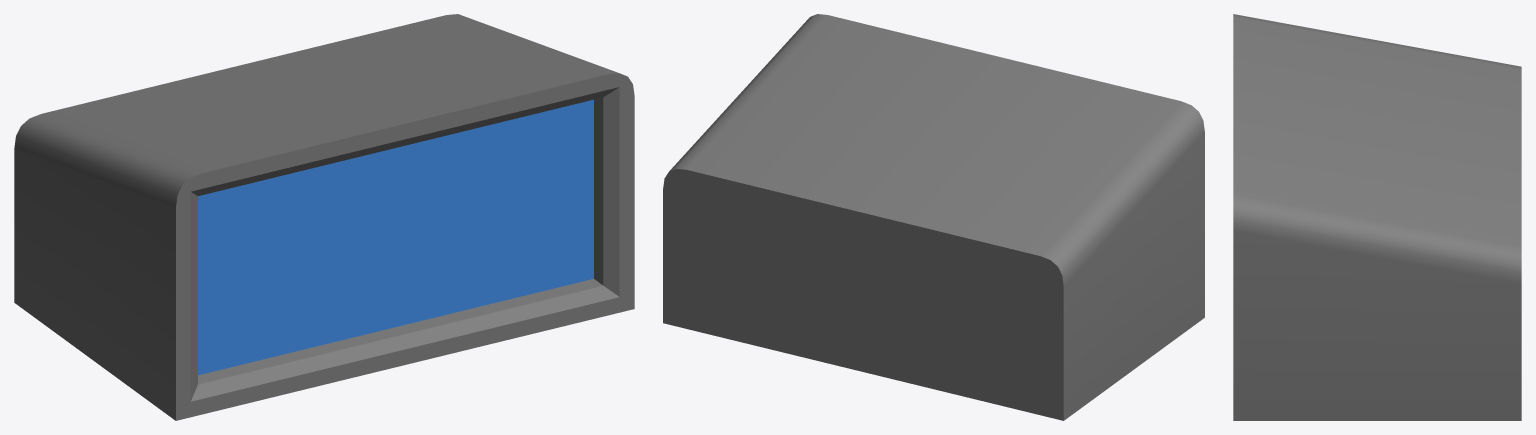
The model's file is SM_clock.fbx.
3 views of the same model, side by side, from view 1: azimuth 30°, elevation 25°; view 2: azimuth 150°, elevation 25°; view 3: azimuth 270°, elevation 25° (orthographic). The views are drawn at different scales.
Parts seen in each view (by area): view 1: clock-base_low; view 2: clock-base_low; view 3: clock-base_low.
Part boxes in pixels (bbox=[...]): clock-base_low: bbox=[14, 14, 634, 420]; clock-base_low: bbox=[663, 14, 1204, 420]; clock-base_low: bbox=[1233, 14, 1521, 420].
Size of the model in its own units: 443 by 223 by 270.
